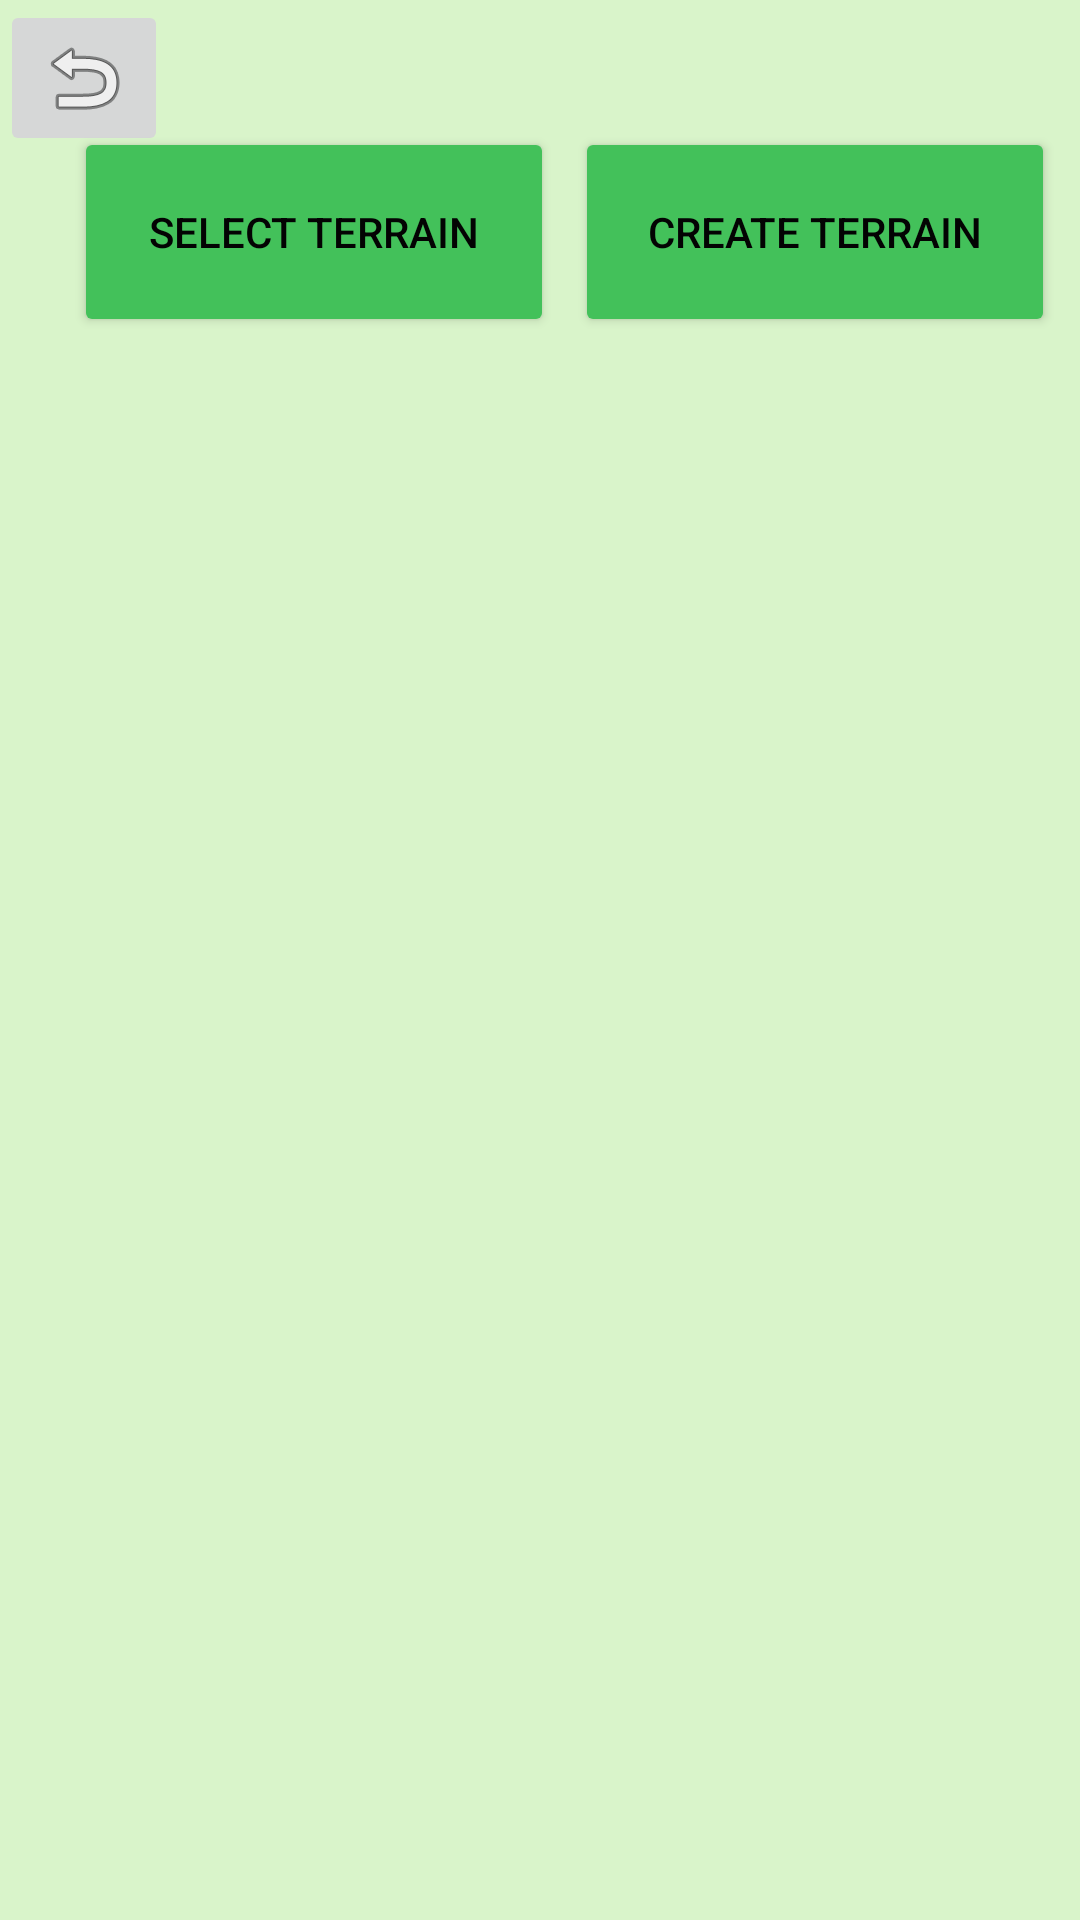

Point at icon controls on the screen. Image size 1080 × 1920, points as (x=x, y=y).
revert: (x=84, y=78)
